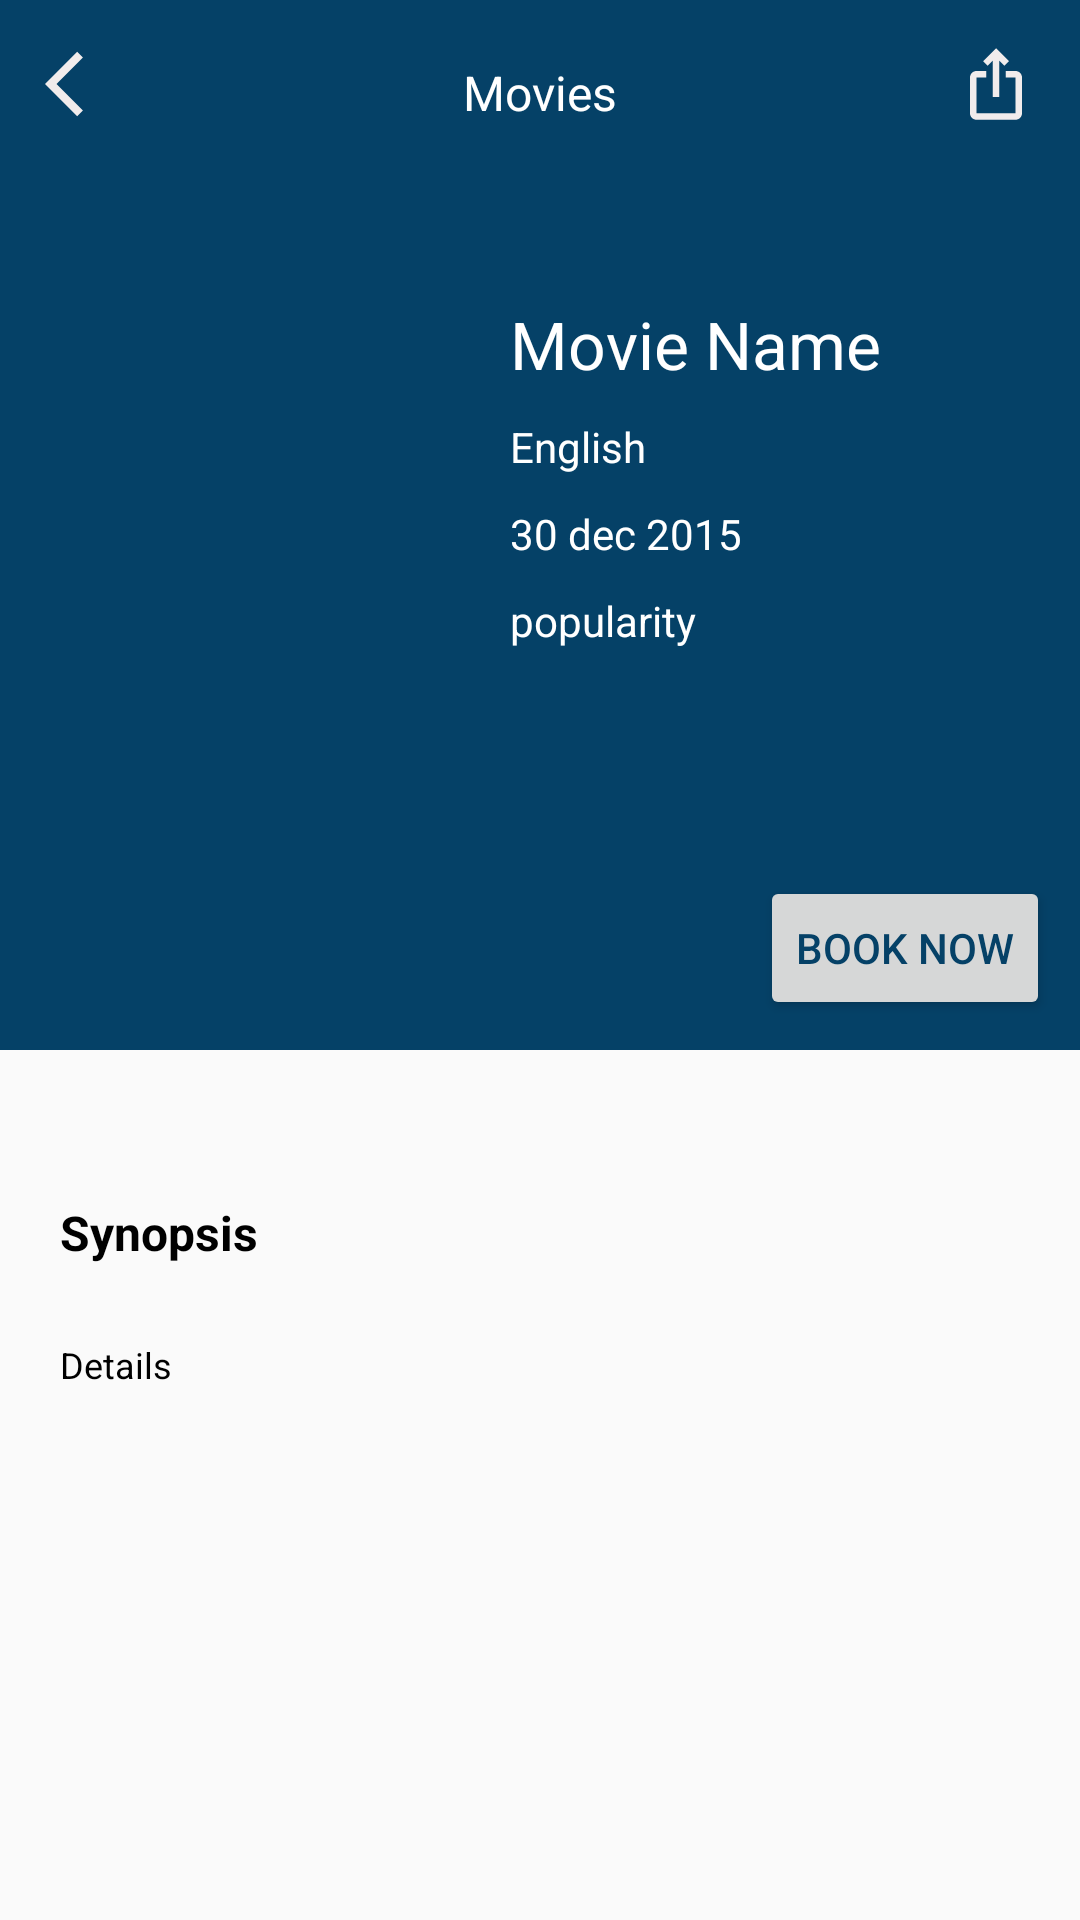

Named icons in this screenshot (1080×1920) and their centers, (x,y):
back: (64,84)
share: (996,84)
